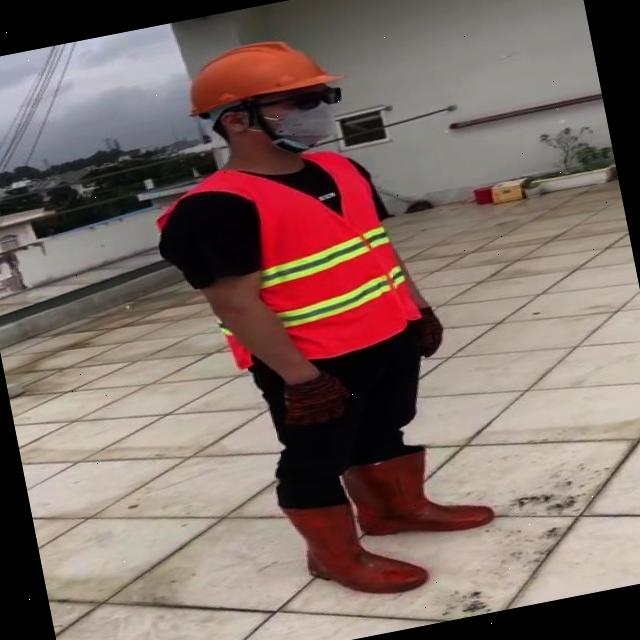boots: (278, 481, 430, 614), (341, 437, 499, 549)
